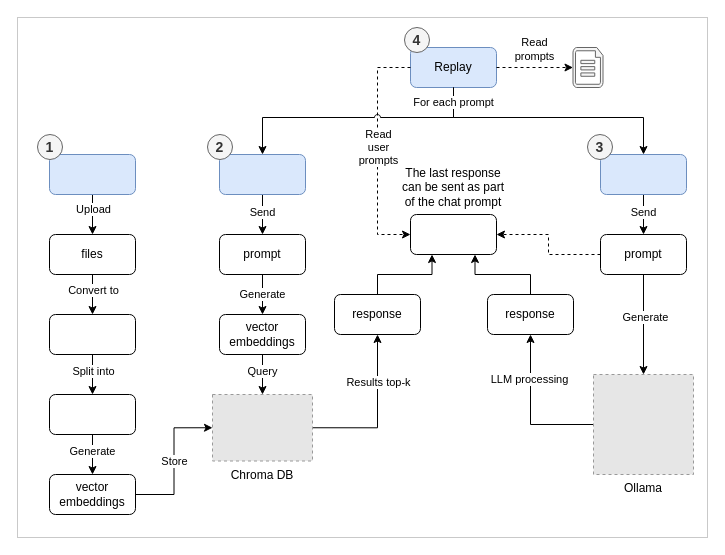
The diagram is 725 pixels wide and 555 high, and some of its shapes have lost their labels. Grey dashed boxes stand in for pictures. The centre of each missing label's shape, as x and y in pixels:
"Chat" belongs at (643,174).
"chat history" belongs at (453,234).
"chunks" belongs at (92,414).
"Get context" belongs at (262,174).
"Index context from files" belongs at (92,174).
"txt" belongs at (92,334).
"TXT file" belongs at (587,67).
